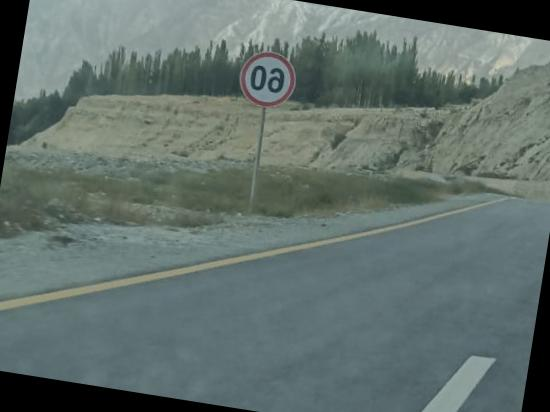right_turn: (429, 132, 550, 233)
